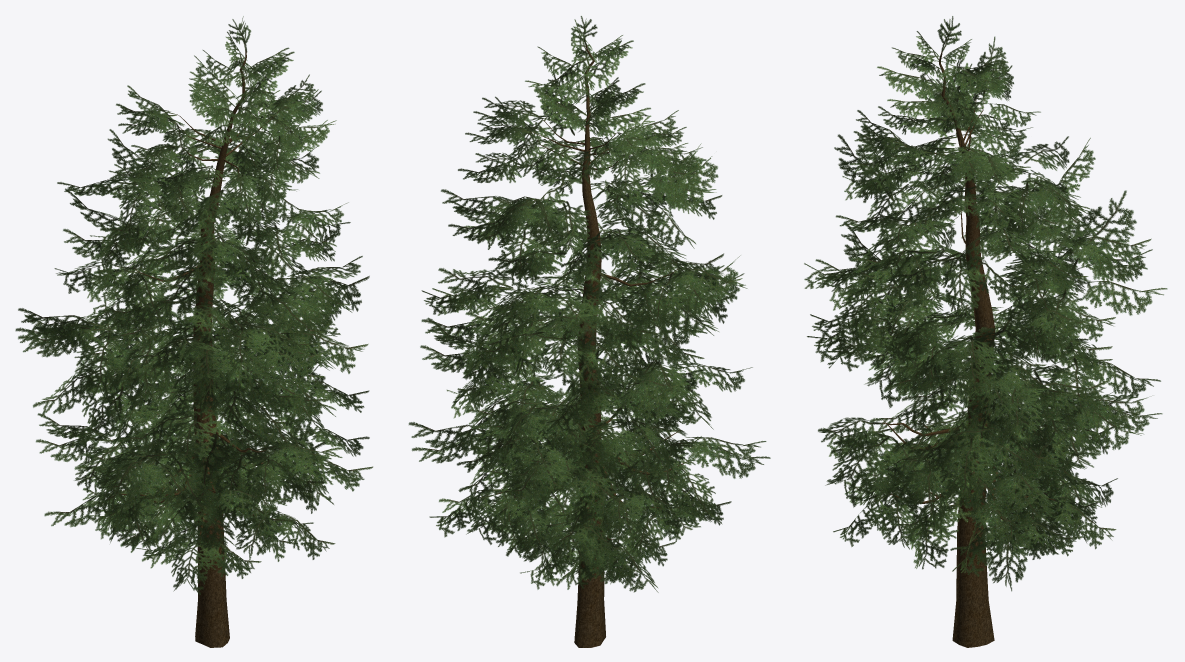
File: tree_fir_2.glb
3 renders of one model, left to right at view 1: azimuth 30°, elevation 25°; view 2: azimuth 150°, elevation 25°; view 3: azimuth 270°, elevation 25°, orthographic. The views are drawn at different scales.
Visible parts, largest first — view 1: tree_fir_2; view 2: tree_fir_2; view 3: tree_fir_2.
Part boxes in pixels (x1,y1,x2,y2): tree_fir_2: (15, 16, 372, 647); tree_fir_2: (408, 16, 770, 647); tree_fir_2: (804, 16, 1167, 647).
Size of the model in its own units: 4.07 by 7.6 by 4.01.
Materials: 2 (2 with a texture image).
